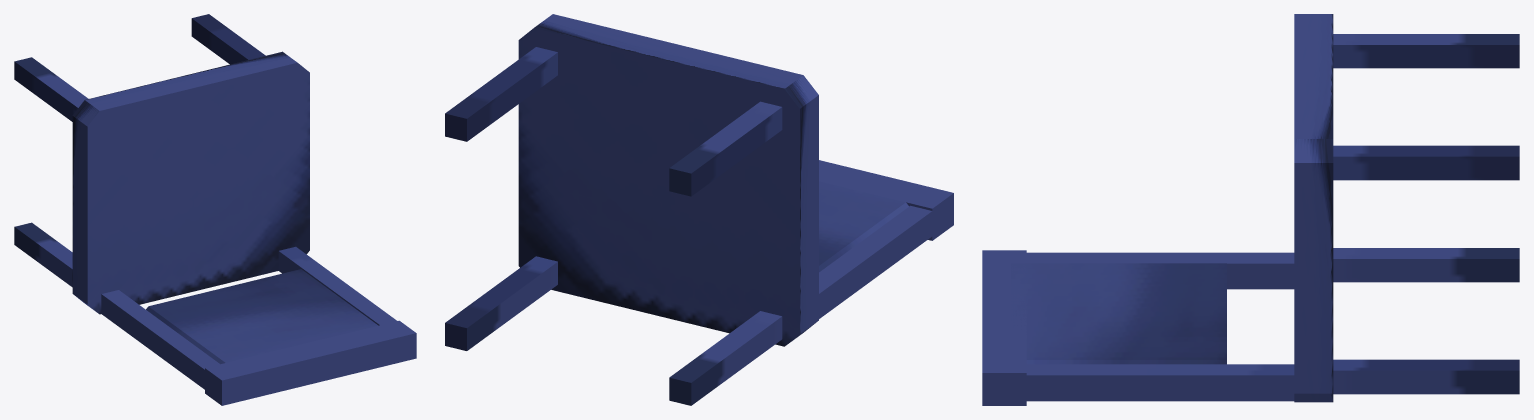
Rendered from pz_chair_seating_indoor_03_darkblue_modern.obj.
The picture shows the model from 3 angles, left to right: view 1: azimuth 30°, elevation 25°; view 2: azimuth 150°, elevation 25°; view 3: azimuth 270°, elevation 25°; orthographic projection. The views are drawn at different scales.
Bounding box in the file's own units: 0.64 × 0.575 × 1.03.
1 material, 1 textured.
